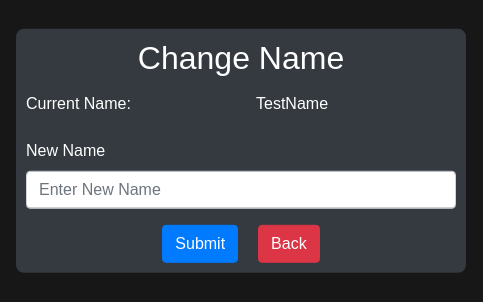
ChangeProfileInfo › Functionality › change Name › should show error if Name is <3 char
In the field labelled "New Name": (241, 190) top-left (26, 171), bottom-right (456, 209), type "ab"
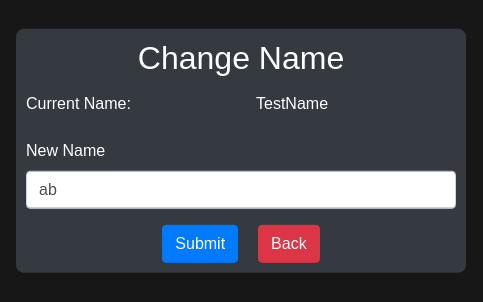
Click the button "Submit": (200, 244) top-left (162, 225), bottom-right (238, 263)
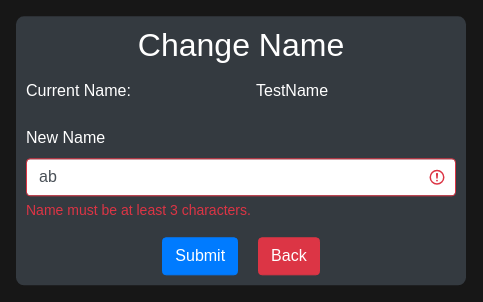
Expected: the text "Name must be at least 3 characters." is shown, top-left (26, 203), bottom-right (251, 219)
